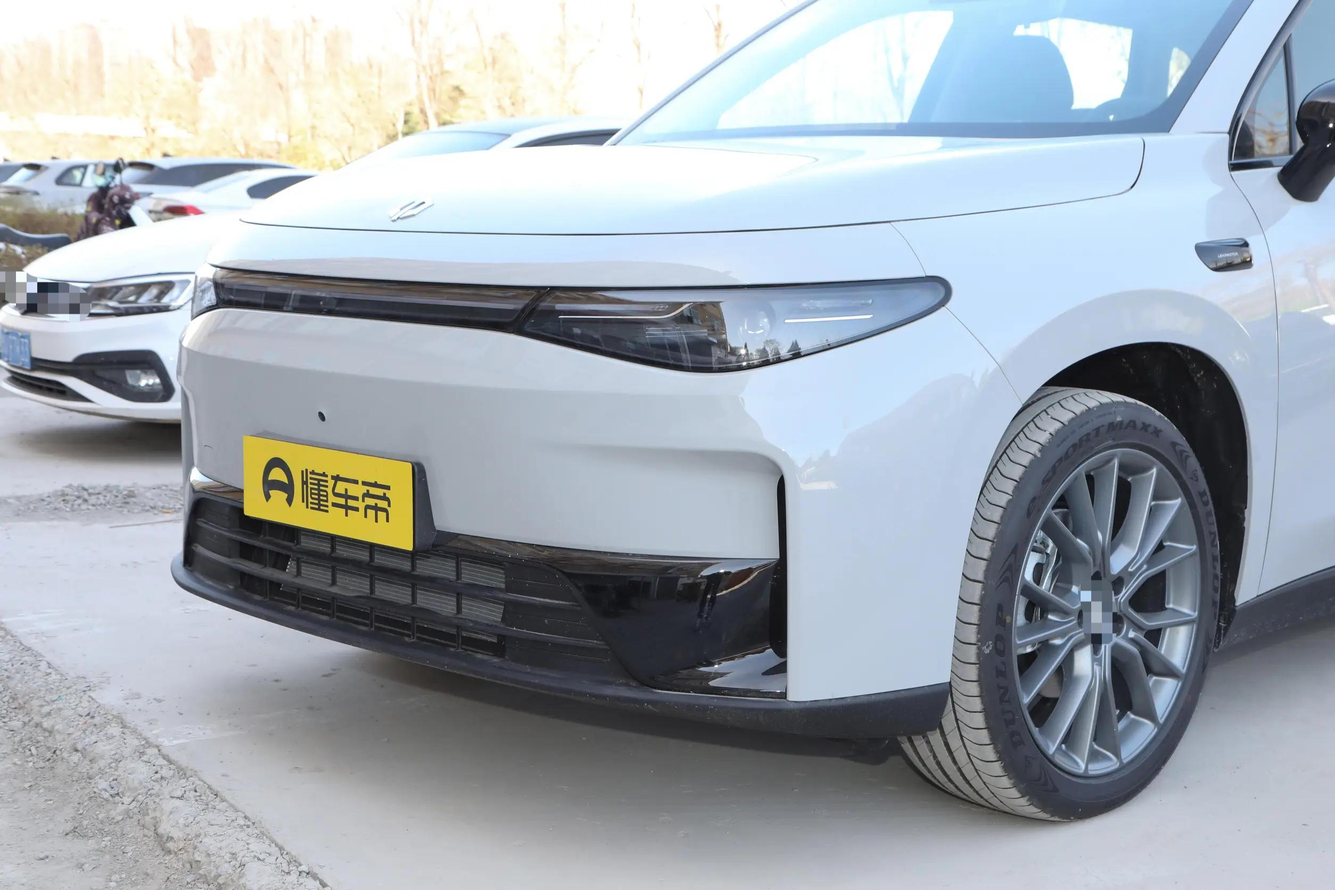LEAPMOTOR: (387, 194, 435, 221)
